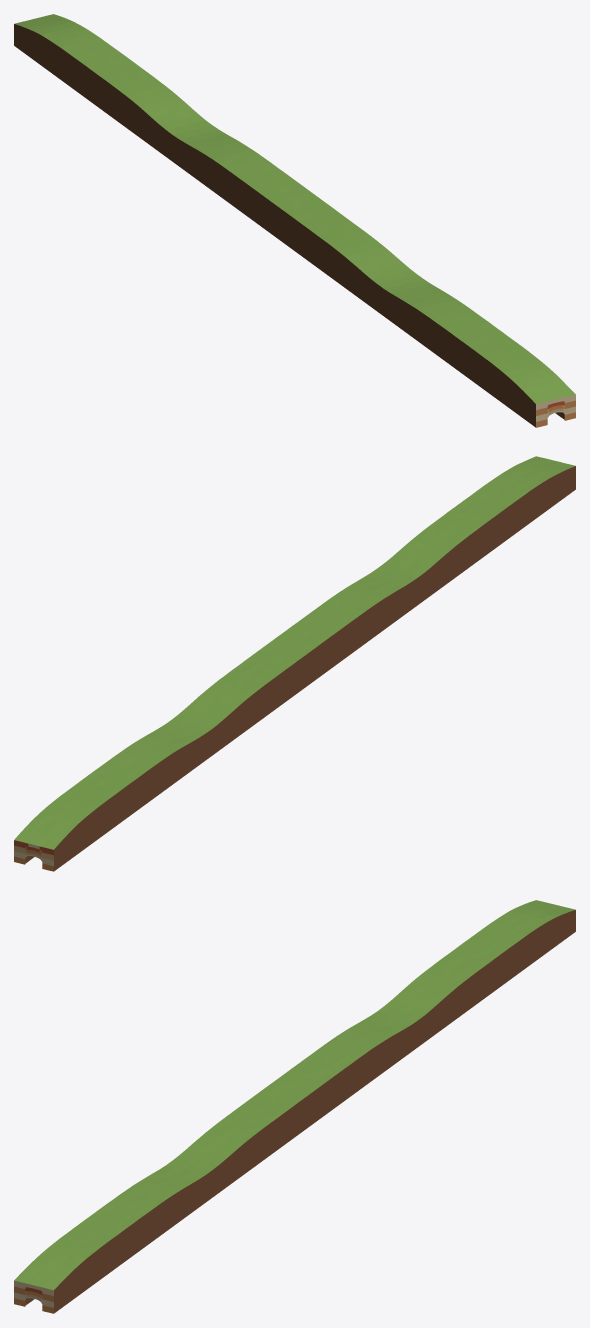
Rendered from tunel_14b.glb.
3 views of the same model, one above another, from view 1: azimuth 30°, elevation 25°; view 2: azimuth 150°, elevation 25°; view 3: azimuth 330°, elevation 25° (orthographic).
Visible parts, largest first — view 1: tunel_14b; view 2: tunel_14b; view 3: tunel_14b.
Part boxes in pixels (left/top/right/bottom): tunel_14b: left=14, top=14, right=575, bottom=427; tunel_14b: left=14, top=456, right=575, bottom=871; tunel_14b: left=14, top=900, right=575, bottom=1313.
Bounding box in the file's own units: 84 × 65.27 × 1908.
